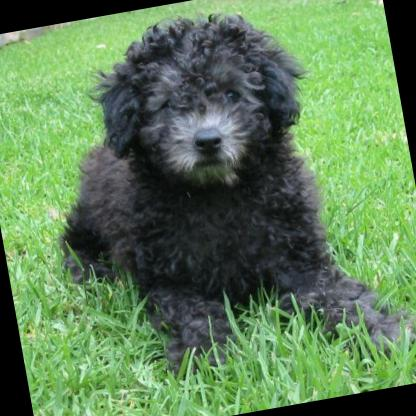miniature_poodle: (22, 0, 416, 405)
